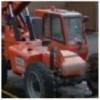tractors: (2, 2, 98, 97)
